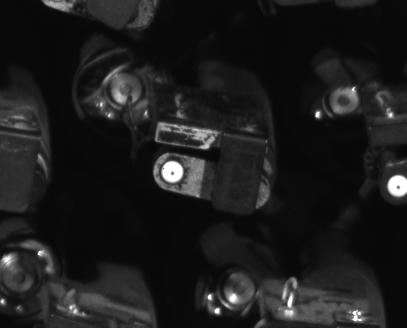fiber: (155, 157, 191, 188), (384, 170, 407, 202)
